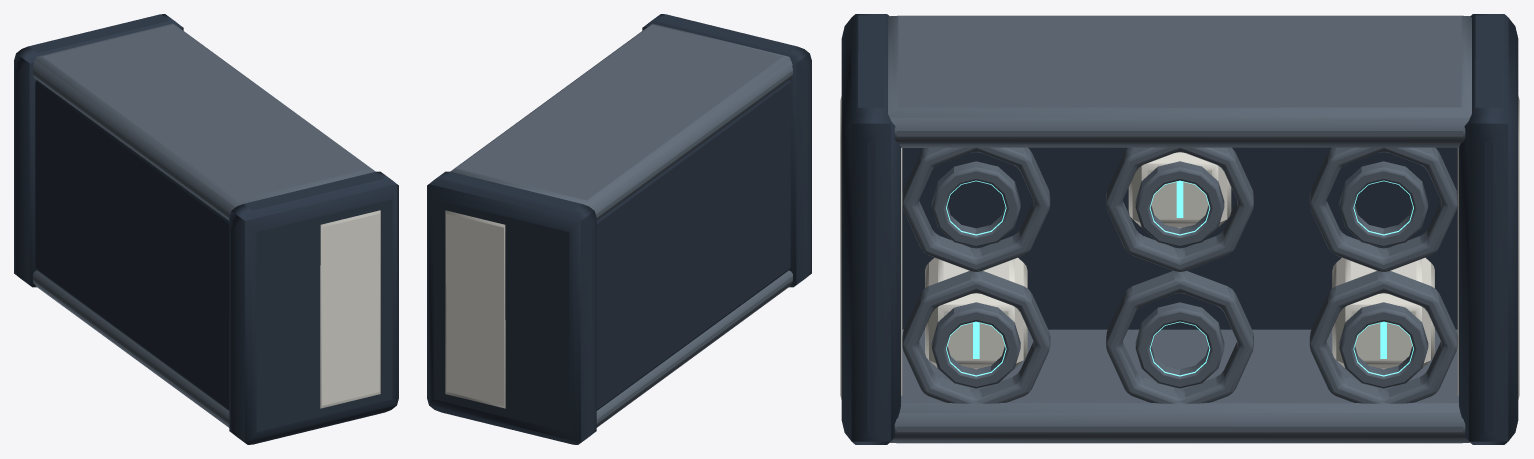
The model's file is tool_registry.glb.
3 renders of one model, left to right at view 1: azimuth 30°, elevation 25°; view 2: azimuth 150°, elevation 25°; view 3: azimuth 270°, elevation 25°, orthographic. The views are drawn at different scales.
Visible parts, largest first — view 1: tool_registry__backplane, tool_registry__rail__02, tool_registry__end_frame__02, tool_registry__ivory_end__02, tool_registry__end_frame, tool_registry__rail; view 2: tool_registry__backplane, tool_registry__rail__02, tool_registry__end_frame, tool_registry__ivory_end, tool_registry__end_frame__02, tool_registry__rail; view 3: tool_registry__rail__02, tool_registry__backplane, tool_registry__rail, tool_registry__end_frame, tool_registry__end_frame__02, tool_registry__slot_01, tool_registry__slot_03, tool_registry__slot_02, tool_registry__slot_04, tool_registry__slot_05, tool_registry__slot_06, tool_registry__cartridge (+10 smaller).
Part boxes in pixels (x1=…): tool_registry__backplane: x1=35, y1=80, x2=229, y2=410; tool_registry__rail__02: x1=33, y1=23, x2=375, y2=220; tool_registry__end_frame__02: x1=229, y1=171, x2=398, y2=444; tool_registry__ivory_end__02: x1=320, y1=210, x2=380, y2=408; tool_registry__end_frame: x1=14, y1=14, x2=183, y2=287; tool_registry__rail: x1=33, y1=270, x2=229, y2=427; tool_registry__backplane: x1=596, y1=80, x2=790, y2=410; tool_registry__rail__02: x1=450, y1=23, x2=792, y2=220; tool_registry__end_frame: x1=427, y1=171, x2=596, y2=444; tool_registry__ivory_end: x1=445, y1=210, x2=505, y2=408; tool_registry__end_frame__02: x1=642, y1=14, x2=811, y2=287; tool_registry__rail: x1=596, y1=270, x2=792, y2=427; tool_registry__rail__02: x1=888, y1=15, x2=1471, y2=147; tool_registry__backplane: x1=902, y1=147, x2=1457, y2=329; tool_registry__rail: x1=890, y1=329, x2=1469, y2=443; tool_registry__end_frame: x1=1459, y1=14, x2=1518, y2=444; tool_registry__end_frame__02: x1=841, y1=14, x2=900, y2=444; tool_registry__slot_01: x1=1309, y1=271, x2=1457, y2=403; tool_registry__slot_03: x1=902, y1=271, x2=1050, y2=403; tool_registry__slot_02: x1=1106, y1=271, x2=1253, y2=403; tool_registry__slot_04: x1=1309, y1=147, x2=1457, y2=271; tool_registry__slot_05: x1=1106, y1=147, x2=1253, y2=271; tool_registry__slot_06: x1=902, y1=147, x2=1050, y2=271; tool_registry__cartridge: x1=1332, y1=257, x2=1434, y2=369.
Bounding box in the file's own units: 2.2 × 3 × 5.5.
